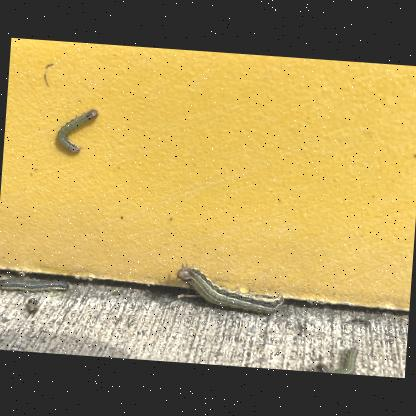Fall Armyworm Larvae: (170, 257, 289, 318), (52, 104, 100, 158), (0, 272, 72, 300), (312, 342, 362, 375)
